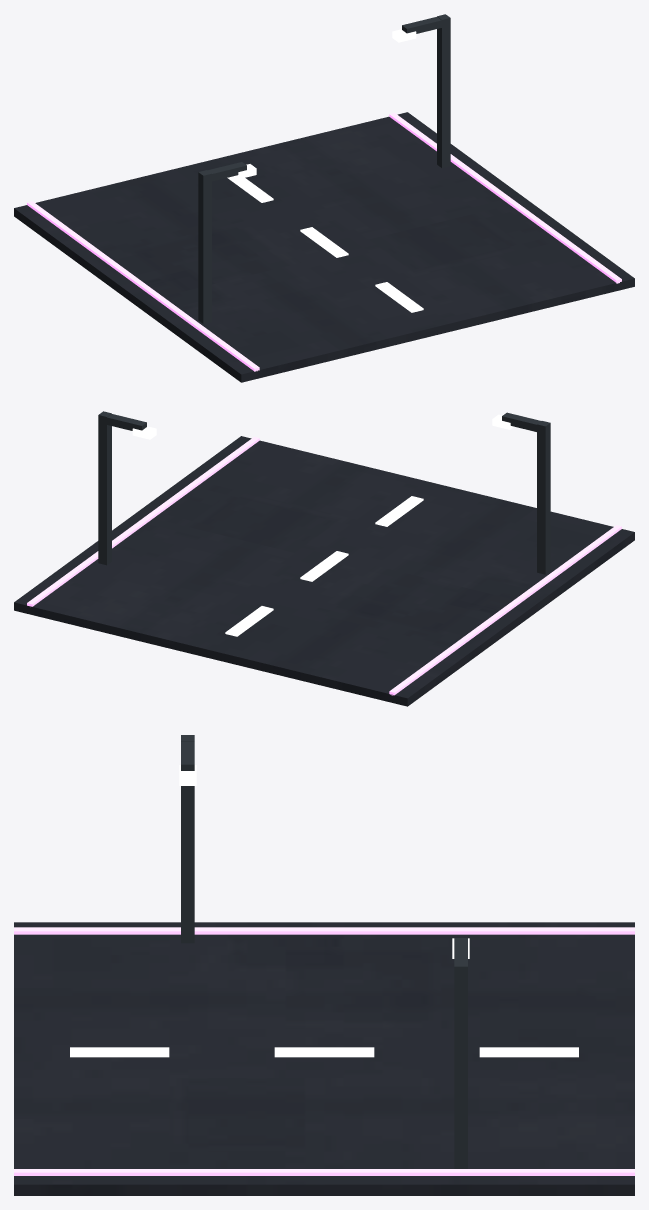
File: decor-road-lamps.glb
3 renders of one model, top to bottom at view 1: azimuth 30°, elevation 25°; view 2: azimuth 150°, elevation 25°; view 3: azimuth 270°, elevation 25°, orthographic. The views are drawn at different scales.
Visible parts, largest first — view 1: DecorRoadLamps; view 2: DecorRoadLamps; view 3: DecorRoadLamps.
Boxes of the visible parts, x1=… form: DecorRoadLamps: x1=14, y1=14, x2=634, y2=382; DecorRoadLamps: x1=14, y1=411, x2=634, y2=706; DecorRoadLamps: x1=14, y1=735, x2=634, y2=1195.
Size of the model in its own units: 1 by 0.38 by 1.
Materials: 5 (1 with a texture image).
